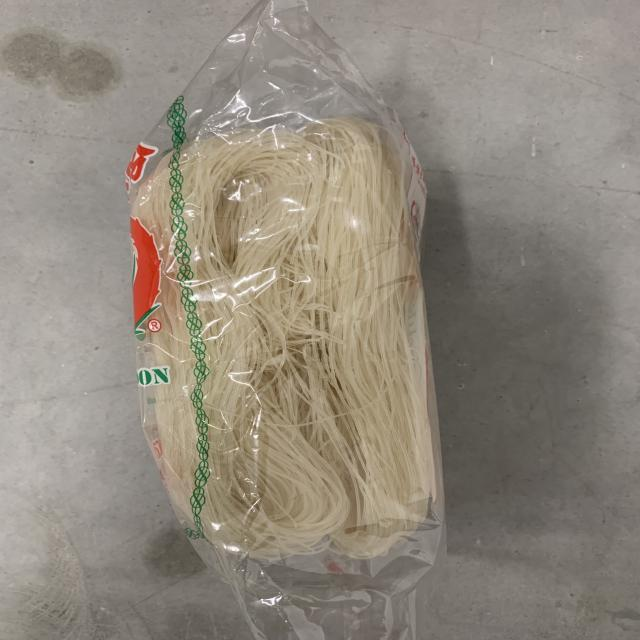object_name: (138, 102, 443, 580)
